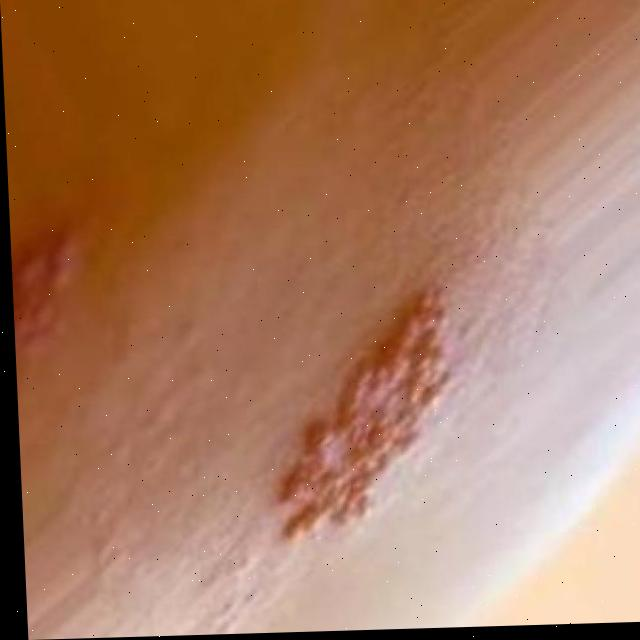Shingles: (263, 275, 474, 543), (11, 240, 91, 368)
